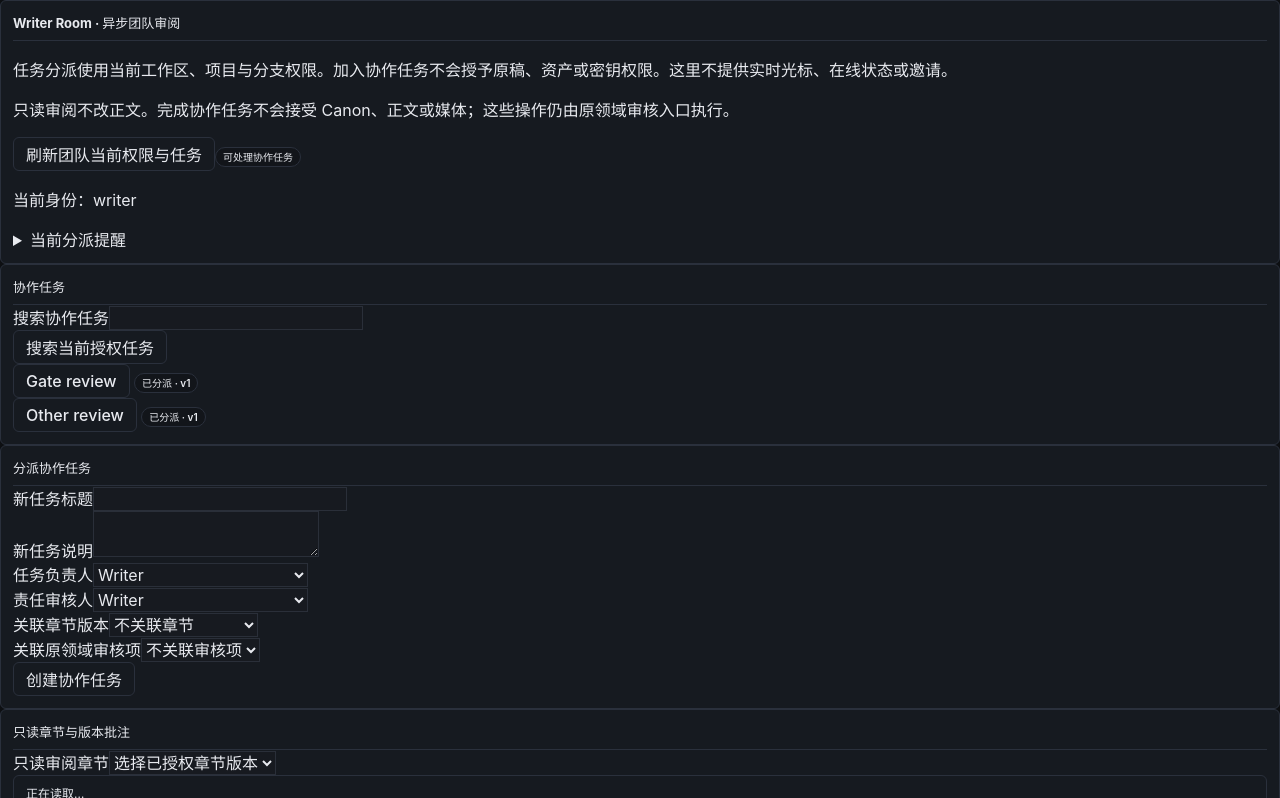
Test: retains unsaved task candidates across task switching and warns before unloading
Click the button "Gate review": (71, 381) [13, 364, 130, 398]
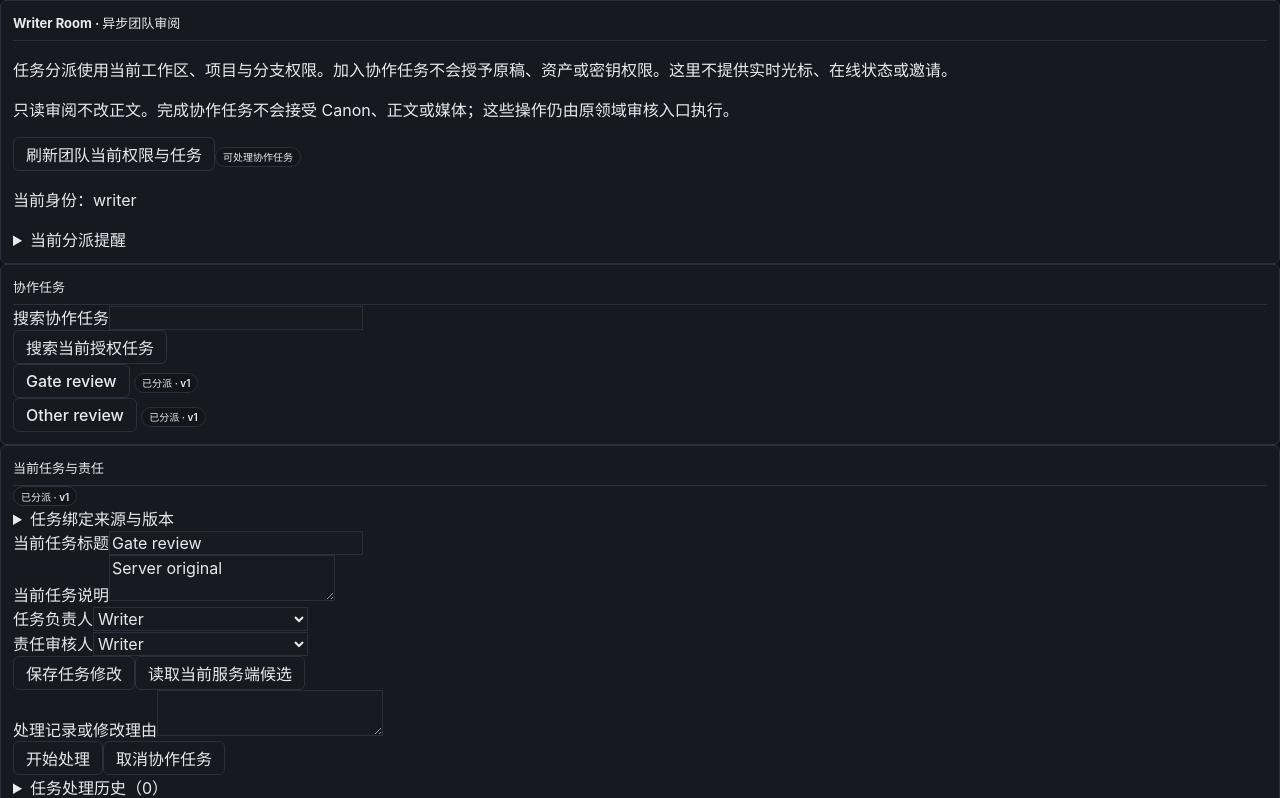
Replace the text in the text box labelled "当前任务说明" with "Unsaved task one 🙂": (222, 578) [109, 555, 335, 601]
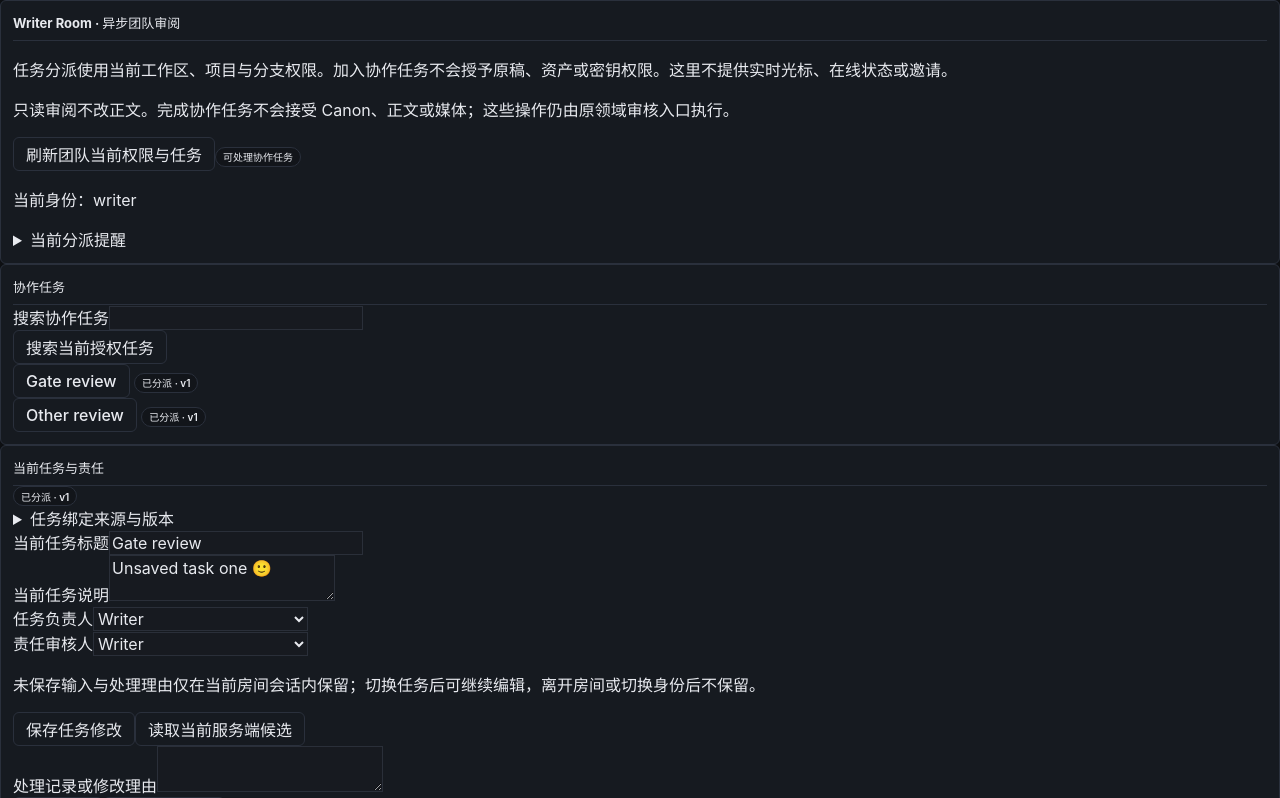
Click the button "Other review": (75, 415) [13, 398, 137, 432]
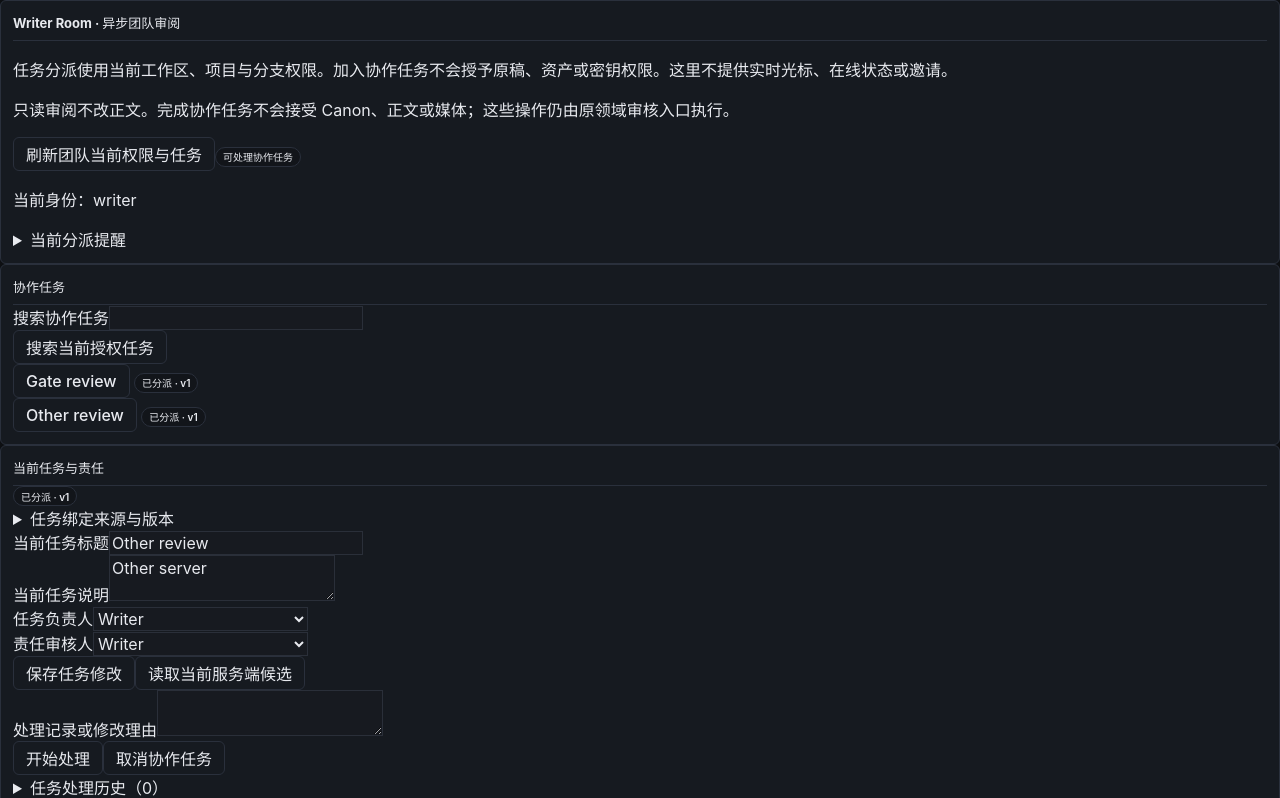
Expected: the text box labelled "当前任务说明" holds "Other server", [109, 555, 335, 601]
Click the button "Gate review": (71, 381) [13, 364, 130, 398]
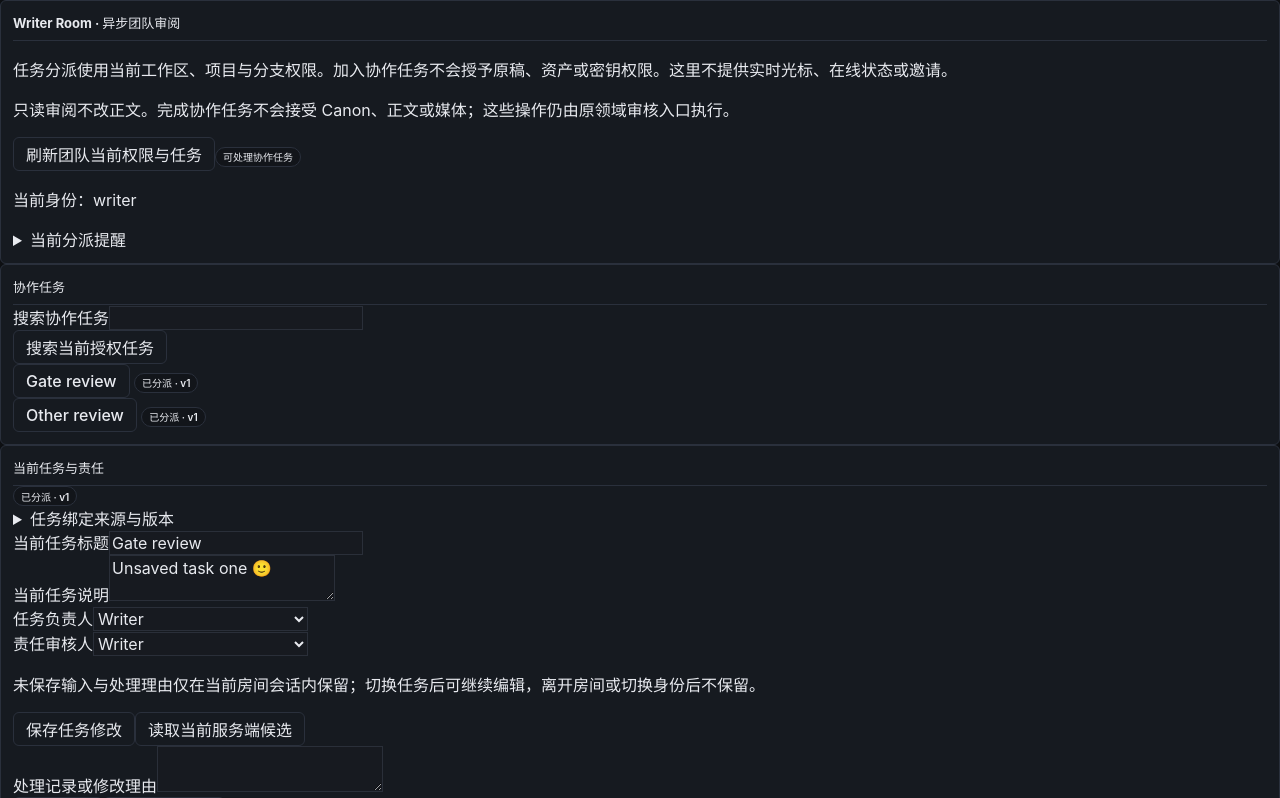
Expected: the text box labelled "当前任务说明" holds "Unsaved task one 🙂", [109, 555, 335, 601]
